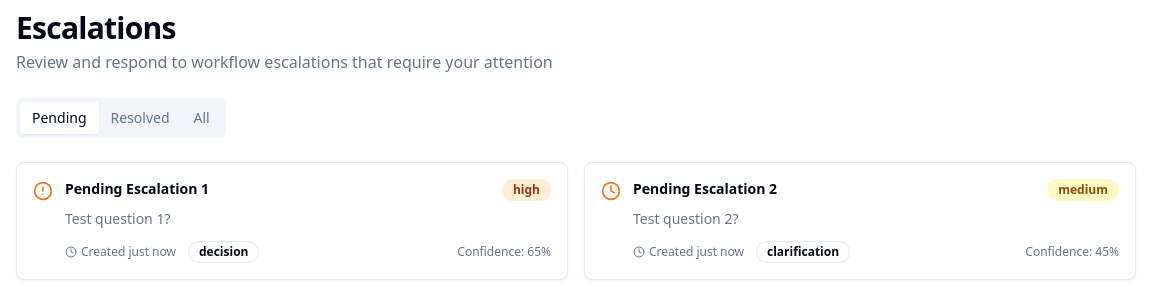
Scenario: EscalationsPage › should filter escalations when tab is changed
Expected: the heading "Pending Escalation 1" is shown, [65, 179, 209, 199]
Click the tab "Resolved": [140, 118] box [98, 102, 182, 134]
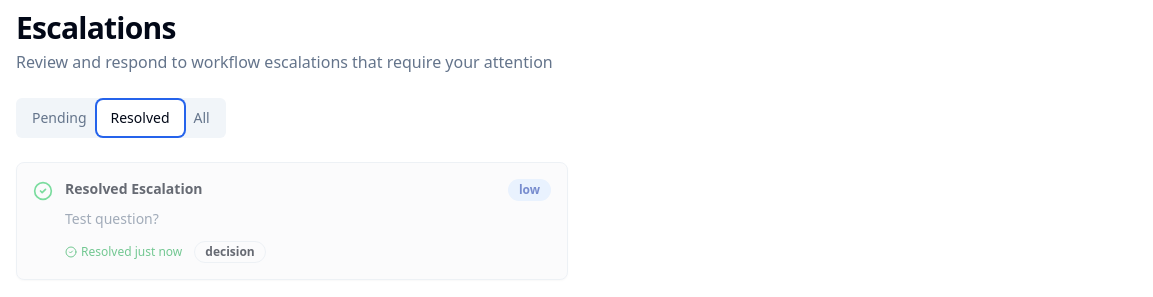
Expected: the heading "Resolved Escalation" is shown, [65, 179, 202, 199]
